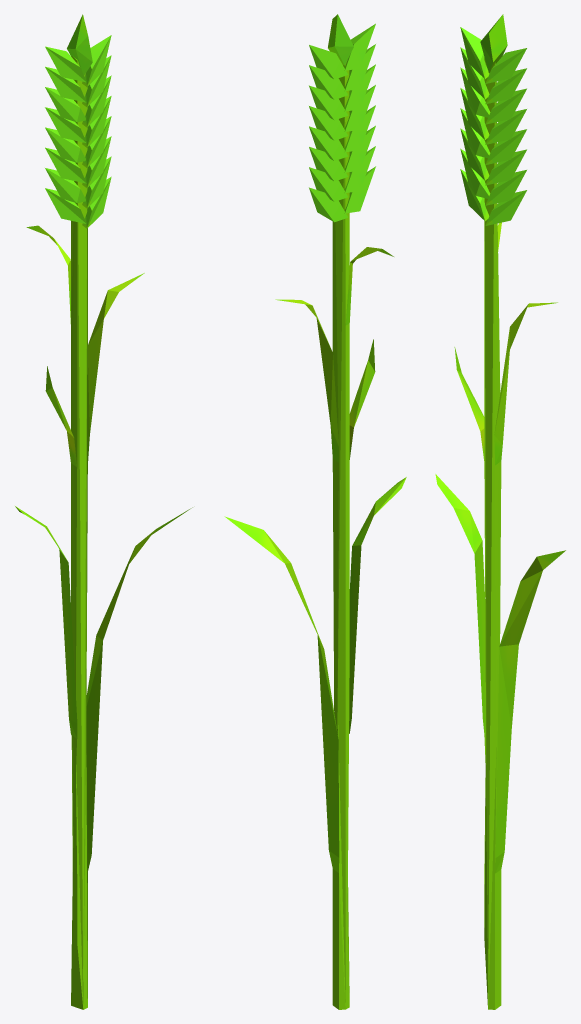
The model's file is Wheat_Lowpoly.fbx.
The picture shows the model from 3 angles, left to right: view 1: azimuth 30°, elevation 25°; view 2: azimuth 210°, elevation 25°; view 3: azimuth 330°, elevation 25°; orthographic projection.
Parts seen in each view (by area): view 1: Wheat; view 2: Wheat; view 3: Wheat.
Boxes of the visible parts, x1,y1,x2,y2 form: Wheat: [15, 14, 192, 1009]; Wheat: [224, 14, 406, 1009]; Wheat: [435, 14, 565, 1009].
Bounding box in the file's own units: 0.2524 × 1.53 × 0.1498.
